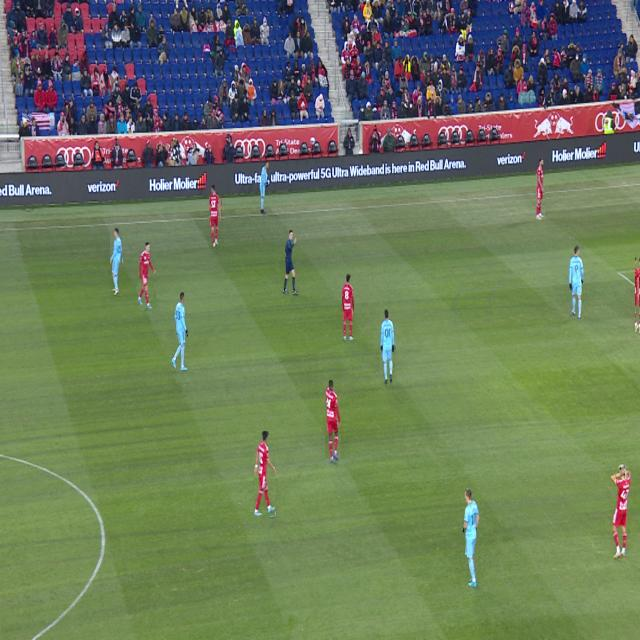player: (611, 464, 631, 559), (462, 488, 480, 587), (255, 432, 275, 516), (171, 293, 188, 371), (326, 381, 341, 463), (138, 243, 156, 309), (569, 245, 584, 319), (381, 309, 395, 384), (342, 274, 354, 341), (111, 228, 122, 296), (210, 185, 221, 248), (536, 157, 545, 220), (635, 257, 640, 333)
referee: (283, 230, 298, 295)
